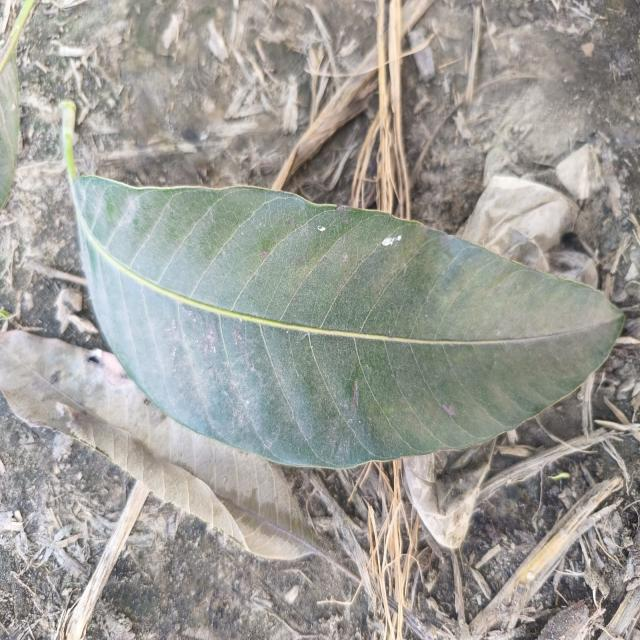Powdery Mildew: (380, 231, 404, 251), (316, 224, 329, 234)
